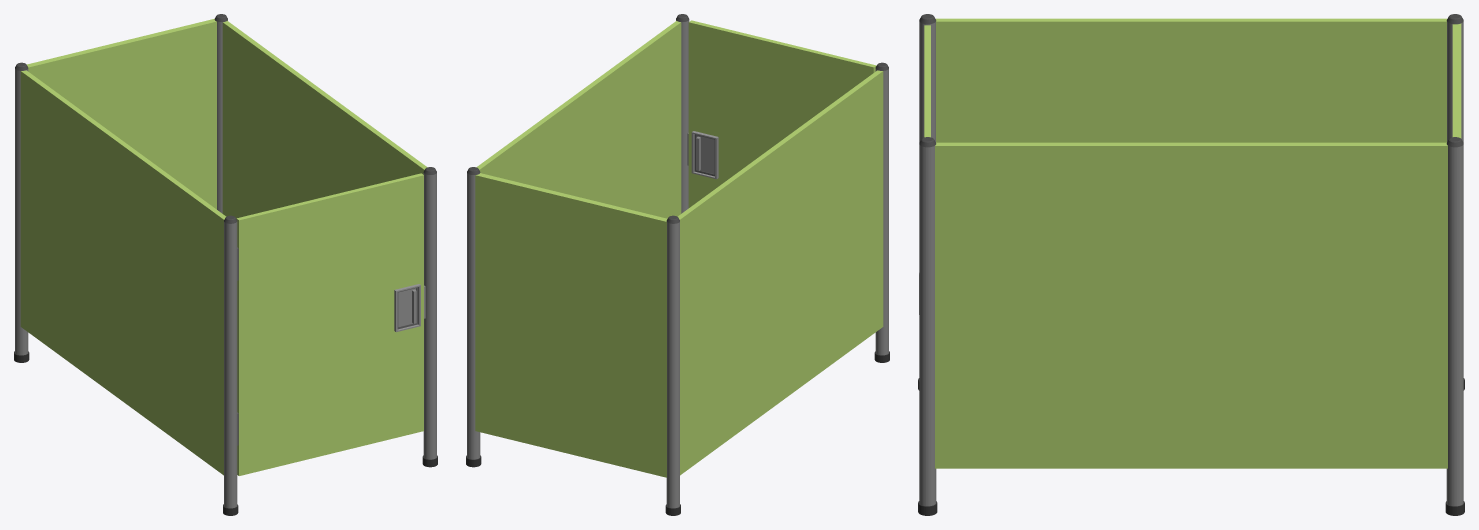
Rendered from Single Bathroom Stall Green.fbx.
3 views of the same model, side by side, from view 1: azimuth 30°, elevation 25°; view 2: azimuth 150°, elevation 25°; view 3: azimuth 270°, elevation 25° (orthographic). The views are drawn at different scales.
Parts seen in each view (by area): view 1: Single Bathroom Stall Green; view 2: Single Bathroom Stall Green; view 3: Single Bathroom Stall Green.
Boxes of the visible parts, x1,y1,x2,y2 form: Single Bathroom Stall Green: (14, 14, 437, 515); Single Bathroom Stall Green: (466, 14, 889, 515); Single Bathroom Stall Green: (918, 14, 1464, 515).
Bounding box in the file's own units: 162 × 215 × 286.
1 material, 1 textured.
